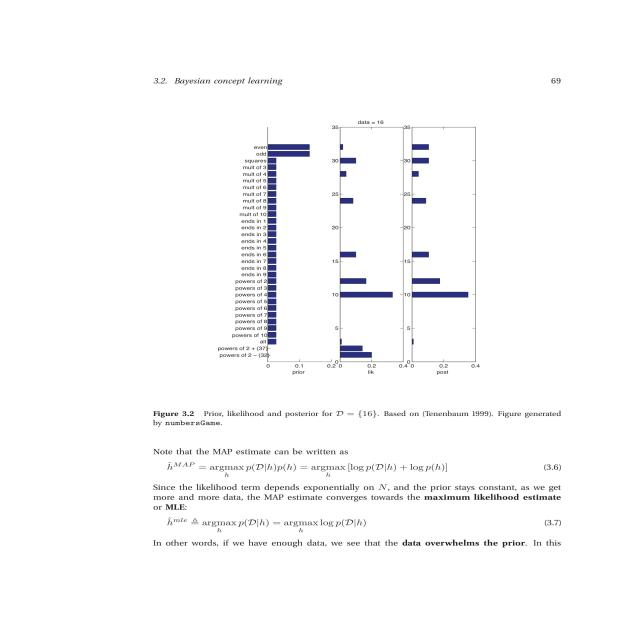diagram: (123, 105, 580, 435)
